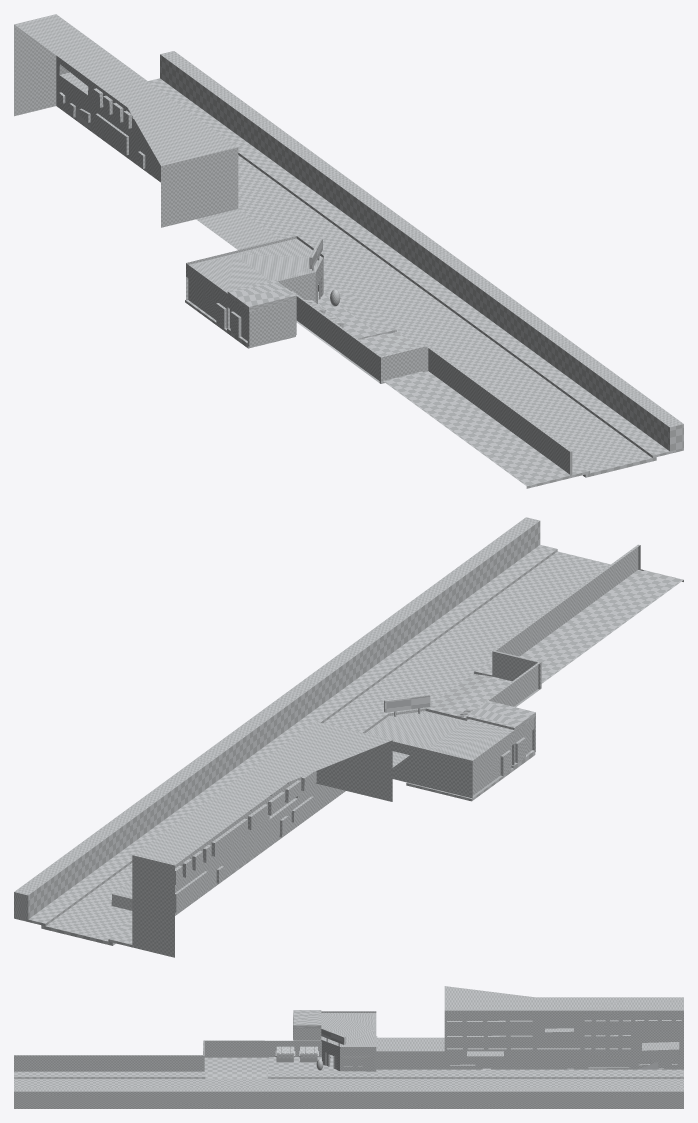
Rendered from fishies_minimart.glb.
3 renders of one model, top to bottom at view 1: azimuth 30°, elevation 25°; view 2: azimuth 150°, elevation 25°; view 3: azimuth 270°, elevation 25°, orthographic. The views are drawn at different scales.
Parts seen in each view (by area): view 1: sidefence, righthand_building, road, sidewalk, floor.001, left_fence, wall.009, wall.001, wall.026, wall.002, wall.025, store_front_wall (+1 smaller); view 2: sidefence, righthand_building, road, sidewalk, floor.001, left_fence, wall, right_building_windows, parksing, wall.002, wall.009, wall.025 (+1 smaller); view 3: righthand_building, sidefence, road, sidewalk, right_building_windows, left_fence, floor.001, wall.009, parksing, store_front_wall, wall.025, wall.005 (+3 smaller).
Part boxes in pixels (x1,y1,x2,y2): sidefence: [56, 51, 683, 488]; righthand_building: [14, 14, 279, 250]; road: [238, 155, 652, 473]; sidewalk: [148, 78, 669, 475]; floor.001: [186, 236, 323, 311]; left_fence: [426, 345, 572, 477]; wall.009: [291, 291, 381, 382]; wall.001: [247, 300, 296, 346]; wall.026: [379, 345, 428, 383]; wall.002: [186, 266, 228, 328]; wall.025: [58, 93, 142, 168]; store_front_wall: [280, 239, 323, 303]; sidefence: [14, 517, 683, 947]; righthand_building: [111, 721, 409, 957]; road: [46, 551, 610, 941]; sidewalk: [28, 544, 557, 943]; floor.001: [362, 700, 535, 763]; left_fence: [494, 544, 640, 656]; wall: [392, 744, 470, 797]; right_building_windows: [176, 771, 316, 884]; parksing: [430, 674, 511, 714]; wall.002: [470, 733, 514, 798]; wall.009: [463, 662, 540, 718]; wall.025: [176, 797, 313, 912]; righthand_building: [376, 986, 683, 1069]; sidefence: [14, 1057, 683, 1108]; road: [14, 1078, 683, 1086]; sidewalk: [14, 1071, 683, 1078]; right_building_windows: [447, 1012, 681, 1048]; left_fence: [14, 1055, 203, 1071]; floor.001: [293, 1010, 376, 1048]; wall.009: [204, 1040, 321, 1057]; parksing: [204, 1057, 268, 1078]; store_front_wall: [321, 1027, 374, 1071]; wall.025: [449, 1056, 677, 1068]; wall.005: [295, 1028, 321, 1040].
Size of the model in its own units: 38.49 by 15.74 by 153.
Materials: 1 (1 with a texture image).
